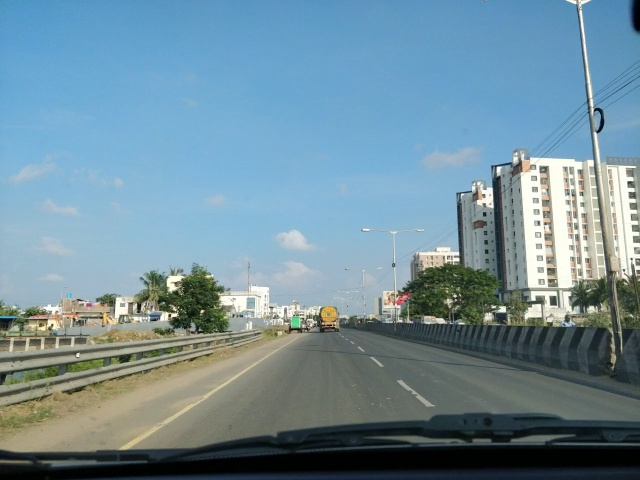truck: (315, 303, 345, 332)
